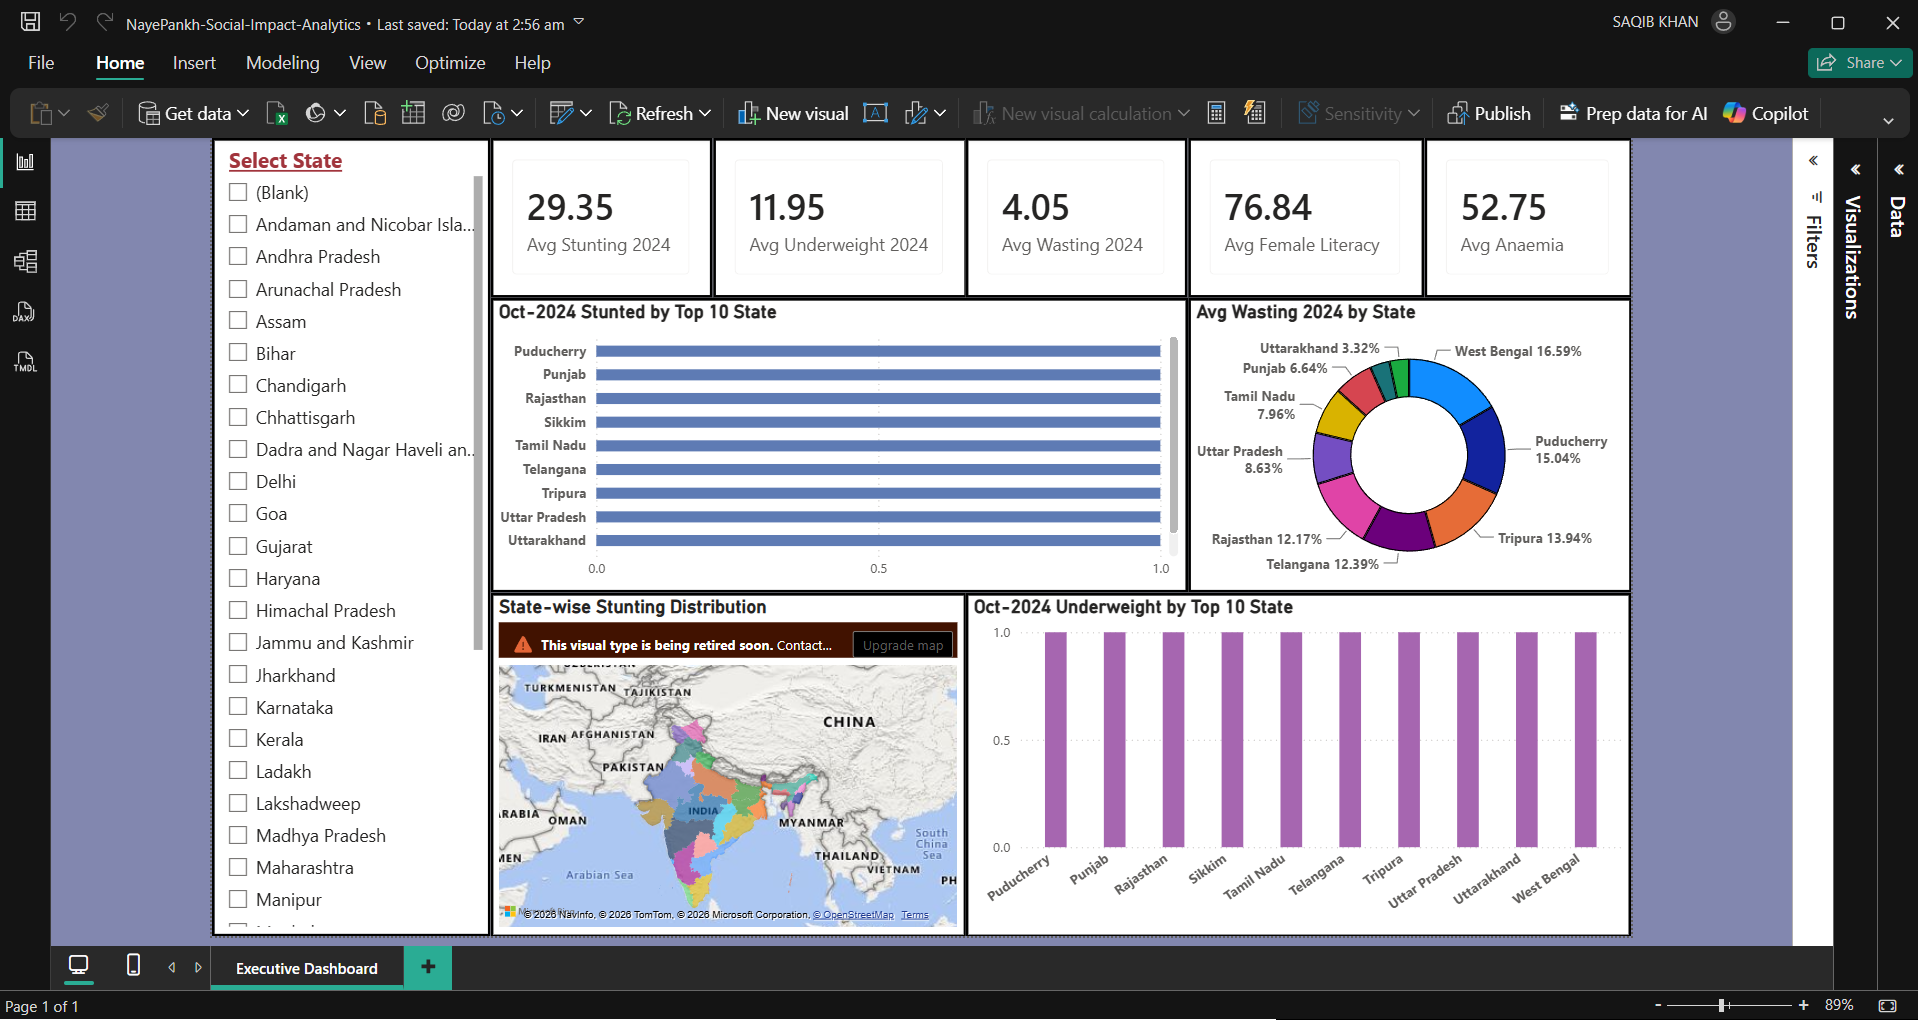

What the dashboard file says about the page in this screenshot:
{"tool":"powerbi","page":{"name":"Executive Dashboard","canvas":[1280,720],"ordinal":0},"visuals":[{"type":"cardVisual","fields":{"Data":["Poshan.Avg Stunting 2024"]},"box":[251.4,0,200,144.3],"z":0},{"type":"cardVisual","fields":{"Data":["Poshan.Avg Underweight 2024"]},"box":[451.4,0,228.6,144.3],"z":1000},{"type":"cardVisual","fields":{"Data":["Poshan.Avg Wasting 2024"]},"box":[680,0,200,144.3],"z":2000},{"type":"cardVisual","fields":{"Data":["NFHS5.Avg Female Literacy"]},"box":[880,0,212.9,144.3],"z":3000},{"type":"cardVisual","fields":{"Data":["NFHS5.Avg Anaemia"]},"box":[1092.9,0,187.1,144.3],"z":4000},{"type":"slicer","fields":{"Values":["Poshan.State/UT"]},"box":[0,0,251.4,720],"z":5000},{"type":"filledMap","title":"State-wise Stunting Distribution","fields":{"Category":["Poshan.State/UT"],"Series":["Poshan.October - 2024 - Stunted"]},"box":[251.4,410,428.6,310],"z":6000},{"type":"clusteredBarChart","title":"Oct-2024 Stunted by Top 10 State","fields":{"Category":["Poshan.State/UT"],"Y":["CountNonNull(Poshan.October - 2024 - Stunted)"]},"box":[251.4,144.3,628.6,265.7],"z":7000},{"type":"clusteredColumnChart","title":"Oct-2024 Underweight by Top 10 State","fields":{"Category":["Poshan.State/UT"],"Y":["CountNonNull(Poshan.October - 2024 - Underweight)"]},"box":[680,410,600,310],"z":8000},{"type":"donutChart","title":"Avg Wasting 2024 by State","fields":{"Category":["Poshan.State/UT"],"Y":["Poshan.Avg Wasting 2024"]},"box":[880,144.3,400,265.7],"z":9000}]}

Visuals, with their boxes on the page's 1280x720 design canvas (x1, y1, x2, y2). These are canvas units, not pixel positions in the 1918x1020 screenshot, which may show the page scaled, cropped or inside an application window:
cardVisual - Poshan.Avg Stunting 2024: left=251, top=0, right=451, bottom=144
cardVisual - Poshan.Avg Underweight 2024: left=451, top=0, right=680, bottom=144
cardVisual - Poshan.Avg Wasting 2024: left=680, top=0, right=880, bottom=144
cardVisual - NFHS5.Avg Female Literacy: left=880, top=0, right=1093, bottom=144
cardVisual - NFHS5.Avg Anaemia: left=1093, top=0, right=1280, bottom=144
slicer - Poshan.State/UT: left=0, top=0, right=251, bottom=720
"State-wise Stunting Distribution" filledMap: left=251, top=410, right=680, bottom=720
"Oct-2024 Stunted by Top 10 State" clusteredBarChart: left=251, top=144, right=880, bottom=410
"Oct-2024 Underweight by Top 10 State" clusteredColumnChart: left=680, top=410, right=1280, bottom=720
"Avg Wasting 2024 by State" donutChart: left=880, top=144, right=1280, bottom=410
